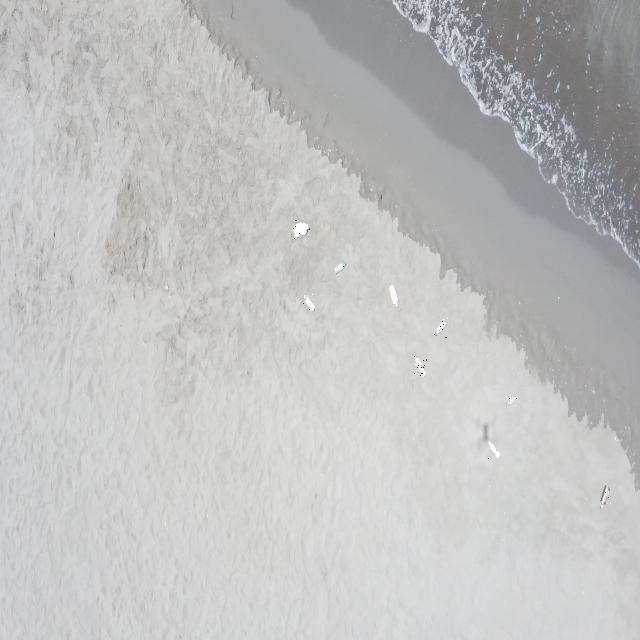Garbage: (292, 220, 308, 238), (413, 355, 427, 375), (433, 319, 446, 335), (488, 440, 500, 457), (388, 283, 396, 306), (600, 484, 608, 507), (303, 295, 313, 310), (333, 263, 344, 272), (506, 395, 516, 404)
